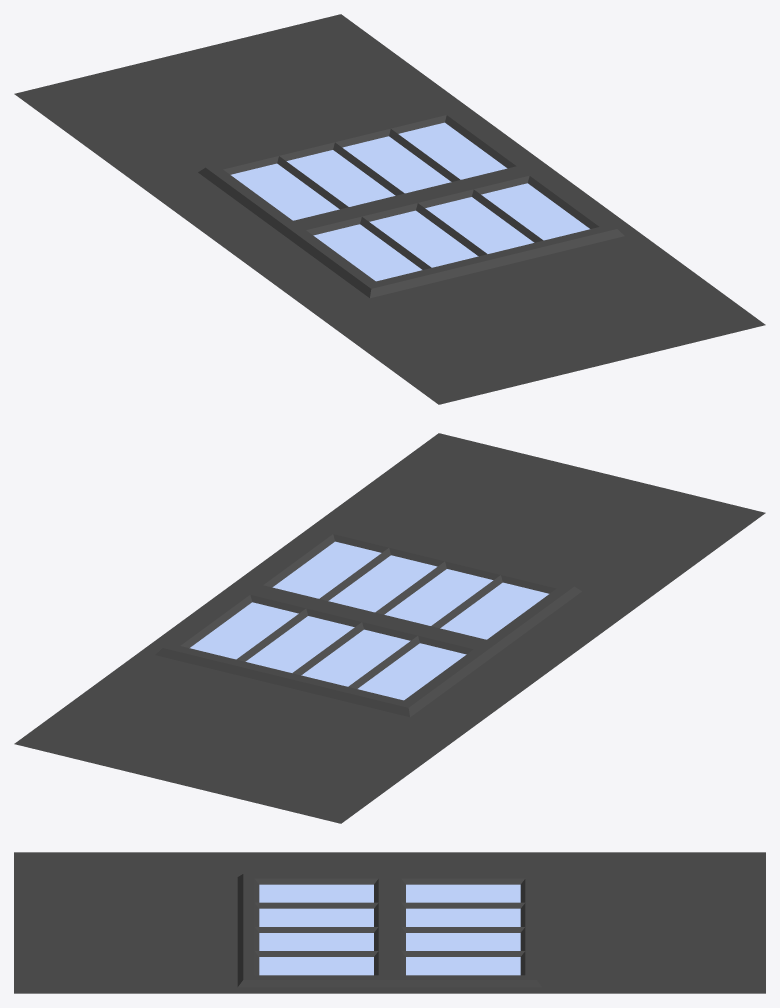
The model's file is door.glb.
3 renders of one model, top to bottom at view 1: azimuth 30°, elevation 25°; view 2: azimuth 150°, elevation 25°; view 3: azimuth 270°, elevation 25°, orthographic. The views are drawn at different scales.
Visible parts, largest first — view 1: Plane; view 2: Plane; view 3: Plane.
Boxes of the visible parts, x1,y1,x2,y2 form: Plane: (14,14,765,404); Plane: (14,433,765,823); Plane: (14,852,765,993).
Bounding box in the file's own units: 6 × 0.1057 × 13.5.
